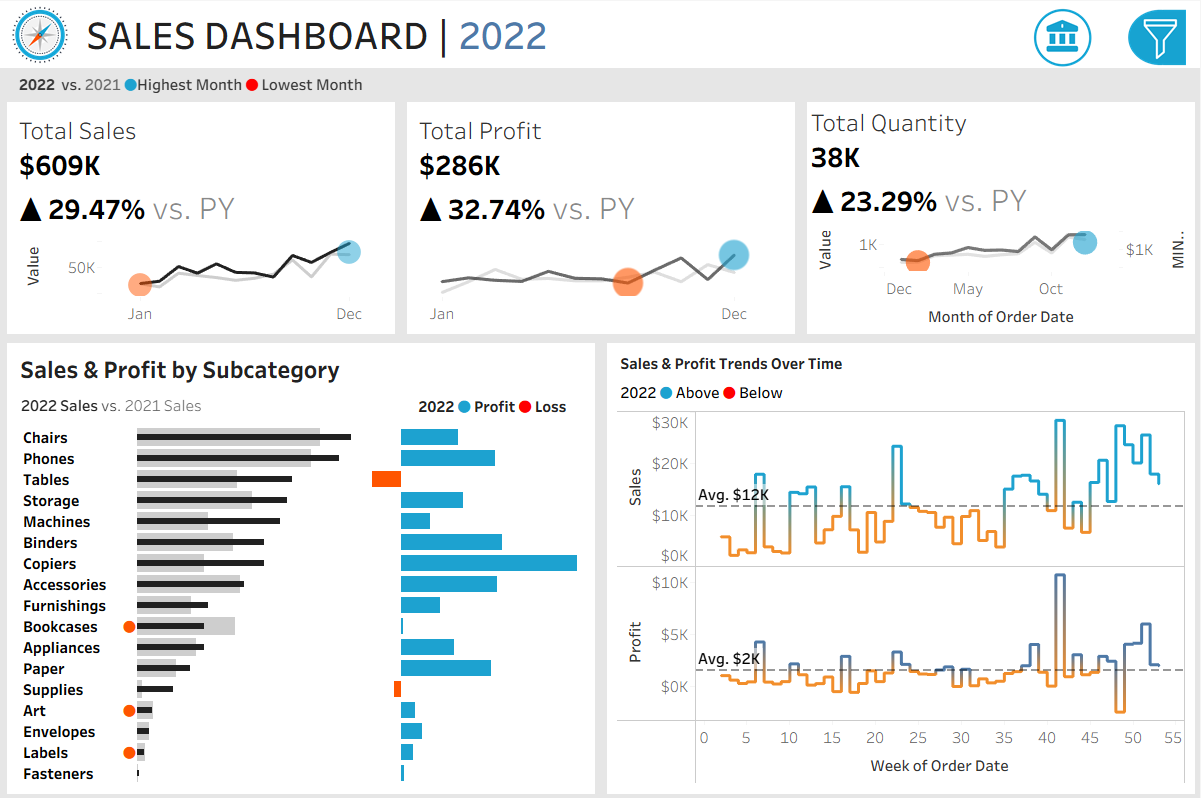

This screenshot's page, from the dashboard's own definition file:
{"tool":"tableau","page":{"name":"Sales Dashboard","canvas":[1200,800],"ordinal":0},"visuals":[{"type":"image","param":"C:/Users/Administrator/Desktop/Tableau with Barra/Sales Dashboard Project/sales-","box":[0,0,79,67]},{"type":"text","box":[79,0,931,67]},{"type":"dashboard-object","box":[1015,3,94,67]},{"type":"dashboard-object","box":[1109,3,94,67]},{"type":"blank","box":[1025,6,167,68]},{"type":"worksheet","title":"Legend KPI","mark":"Automatic","box":[0,67,1200,34]},{"type":"text","box":[1025,74,167,36]},{"type":"worksheet","title":"KPI Sales","mark":"Automatic","rows":["Calculation_1361215810768900"],"cols":["Order Date"],"box":[0,101,400,234]},{"type":"worksheet","title":"KPI Profit","mark":"Line","rows":["MIN/MAX Qty (copy)_1361215827030035"],"cols":["Order Date"],"box":[400,101,400,234]},{"type":"worksheet","title":"KPI Qty","mark":"Automatic","rows":["MIN/MAX Sales (copy)_1361215826735122"],"cols":["Order Date"],"box":[800,101,400,234]},{"type":"parameter","param":"[Parameters].[Parameter 1]","box":[1025,110,167,56]},{"type":"blank","box":[1025,166,167,32]},{"type":"text","box":[1025,198,167,32]},{"type":"filter","title":"KPI Sales","param":"[federated.1026be40f23e171b553q80l5ueqy].[none:Category:nk]","box":[1025,230,167,61]},{"type":"filter","title":"KPI Sales","param":"[federated.1026be40f23e171b553q80l5ueqy].[none:Sub-Category:nk]","box":[1025,291,167,61]},{"type":"text","box":[13,348,576,40]},{"type":"text","box":[613,348,576,29]},{"type":"text","box":[1025,352,167,32]},{"type":"text","box":[613,377,576,29]},{"type":"filter","title":"KPI Sales","param":"[federated.1026be40f23e171b553q80l5ueqy].[none:Region:nk]","box":[1025,384,167,61]},{"type":"worksheet","title":"Legend Subcategory","mark":"Automatic","box":[13,388,398,34]},{"type":"text","box":[411,388,178,34]},{"type":"worksheet","title":"Weekly Trends","mark":"Automatic","rows":["Calculation_1361215802974208","CY Qty (copy)_1361215825960974"],"cols":["Order Date"],"box":[613,406,576,381]},{"type":"worksheet","title":"Subcategory Comparison","mark":"Bar","rows":["Sub-Category","Calculation_1367263194058762"],"cols":["CY Sales (copy)_1361215803179009","Calculation_1361215802974208","CY Qty (copy)_1361215825960974"],"box":[13,422,576,364.9]},{"type":"filter","title":"KPI Sales","param":"[federated.1026be40f23e171b553q80l5ueqy].[none:State:nk]","box":[1025,445,167,61]},{"type":"filter","title":"KPI Sales","param":"[federated.1026be40f23e171b553q80l5ueqy].[none:City:nk]","box":[1025,506,167,61]}]}

Visuals, with their boxes in screenshot pixels (x1, y1, x2, y2), scaled from the page's 1200x800 canvas onto the 1201x798 screenshot:
image: [0,0,79,67]
text: [79,0,1011,67]
dashboard-object: [1016,3,1110,70]
dashboard-object: [1110,3,1200,70]
blank: [1026,6,1193,74]
"Legend KPI" worksheet: [0,67,1200,101]
text: [1026,74,1193,110]
"KPI Sales" worksheet: [0,101,400,334]
"KPI Profit" worksheet (Line marks): [400,101,801,334]
"KPI Qty" worksheet: [801,101,1200,334]
parameter: [1026,110,1193,166]
blank: [1026,166,1193,198]
text: [1026,198,1193,229]
"KPI Sales" filter: [1026,229,1193,290]
"KPI Sales" filter: [1026,290,1193,351]
text: [13,347,589,387]
text: [614,347,1190,376]
text: [1026,351,1193,383]
text: [614,376,1190,405]
"KPI Sales" filter: [1026,383,1193,444]
"Legend Subcategory" worksheet: [13,387,411,421]
text: [411,387,589,421]
"Weekly Trends" worksheet: [614,405,1190,785]
"Subcategory Comparison" worksheet (Bar marks): [13,421,589,785]
"KPI Sales" filter: [1026,444,1193,505]
"KPI Sales" filter: [1026,505,1193,566]
